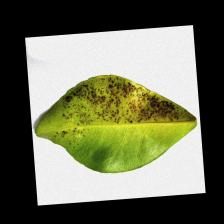canker: (86, 80, 169, 120)
